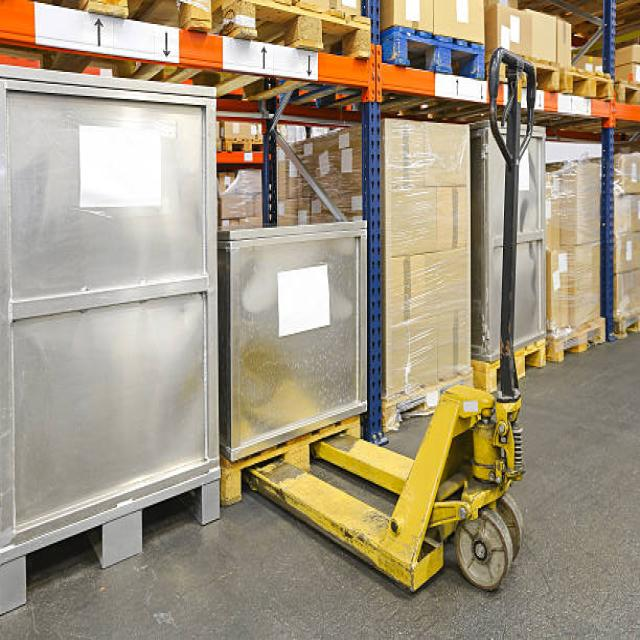Wooden-Pallets: (223, 414, 367, 508), (230, 0, 371, 60), (548, 312, 612, 379), (562, 63, 615, 108)
